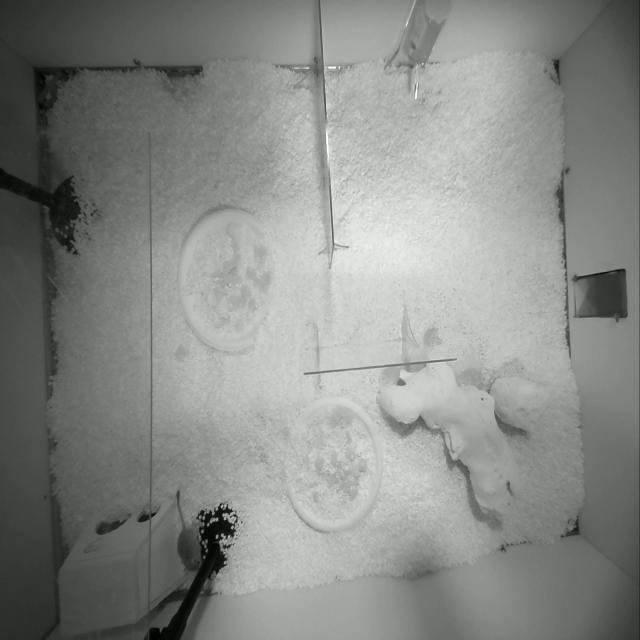pup_fluffy: (176, 490, 202, 571)
